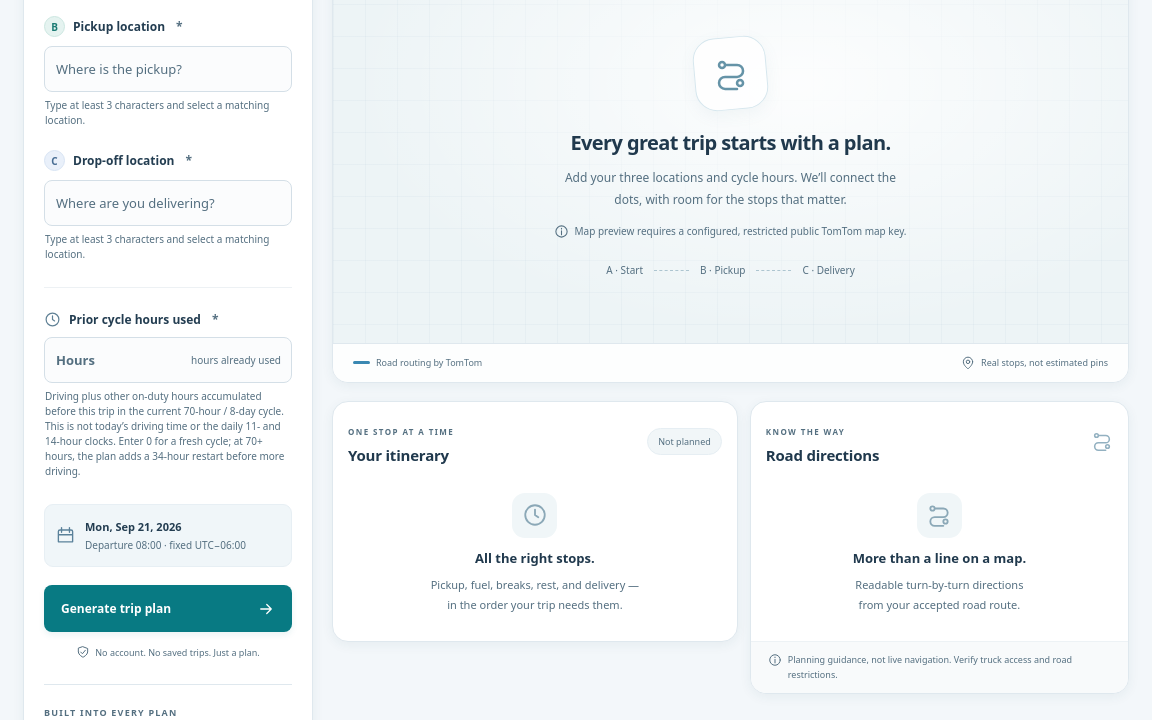
Test case: four-input planning workspace › rejects missing selections and negative hours without a planning request
(page scrolled)
Expected: the text "Mon, Sep 21, 2026" is shown, top-left (85, 519), bottom-right (182, 534)
Type "-1" into the number field at (84, 360), box top-left (45, 338), bottom-right (122, 382)
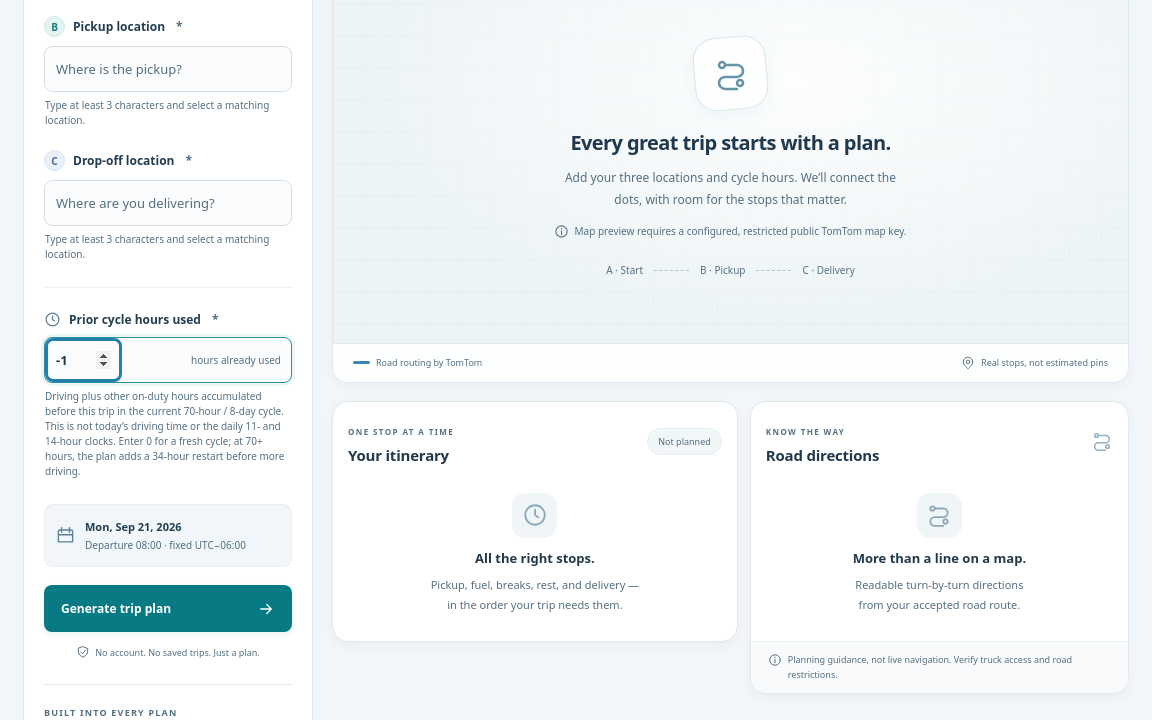
Click the button "Generate trip plan" at (168, 609), box top-left (44, 585), bottom-right (292, 632)
(page scrolled)
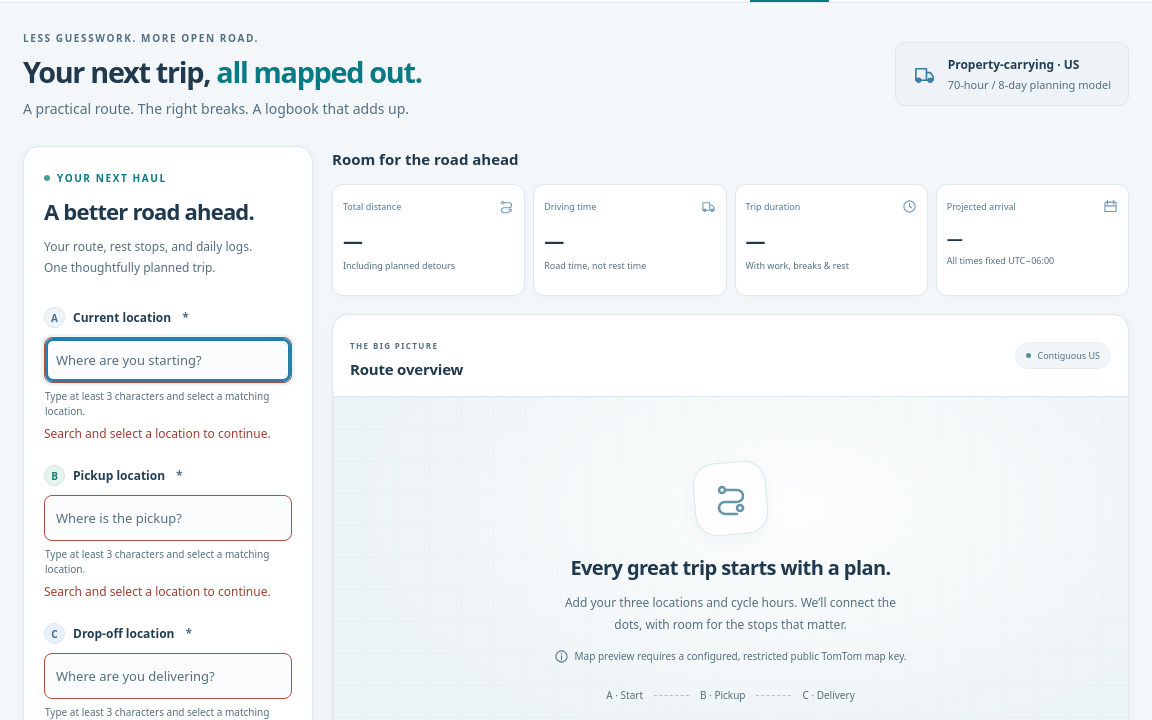
Now the text "Search and select a location to continue." is shown 3 times
